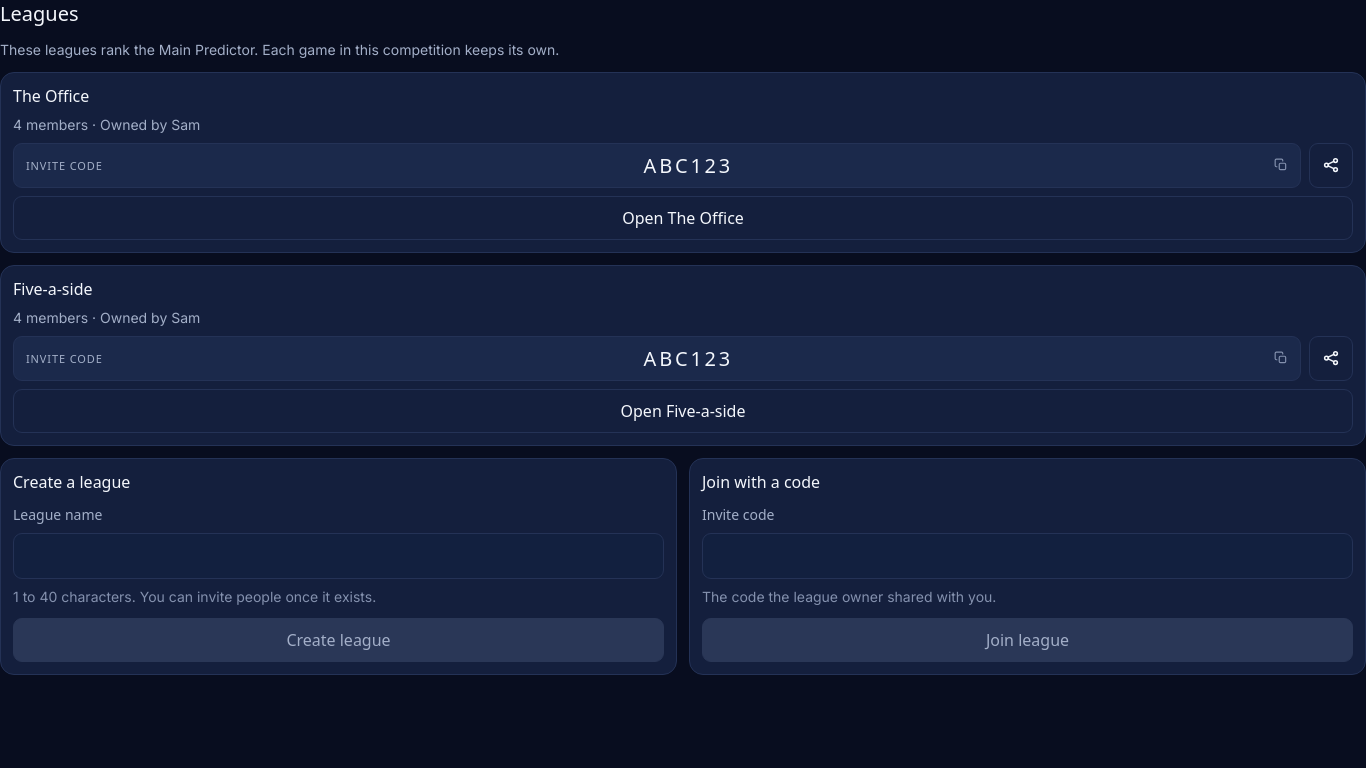
Test case: the competition leagues surface › keeps one table open at a time
This screenshot has width=1366, height=768.
Expected: the heading "The Office" is shown, [13,85,89,107]
Click the button "Open The Office" at x=683, y=218, box [13,196,1353,240]
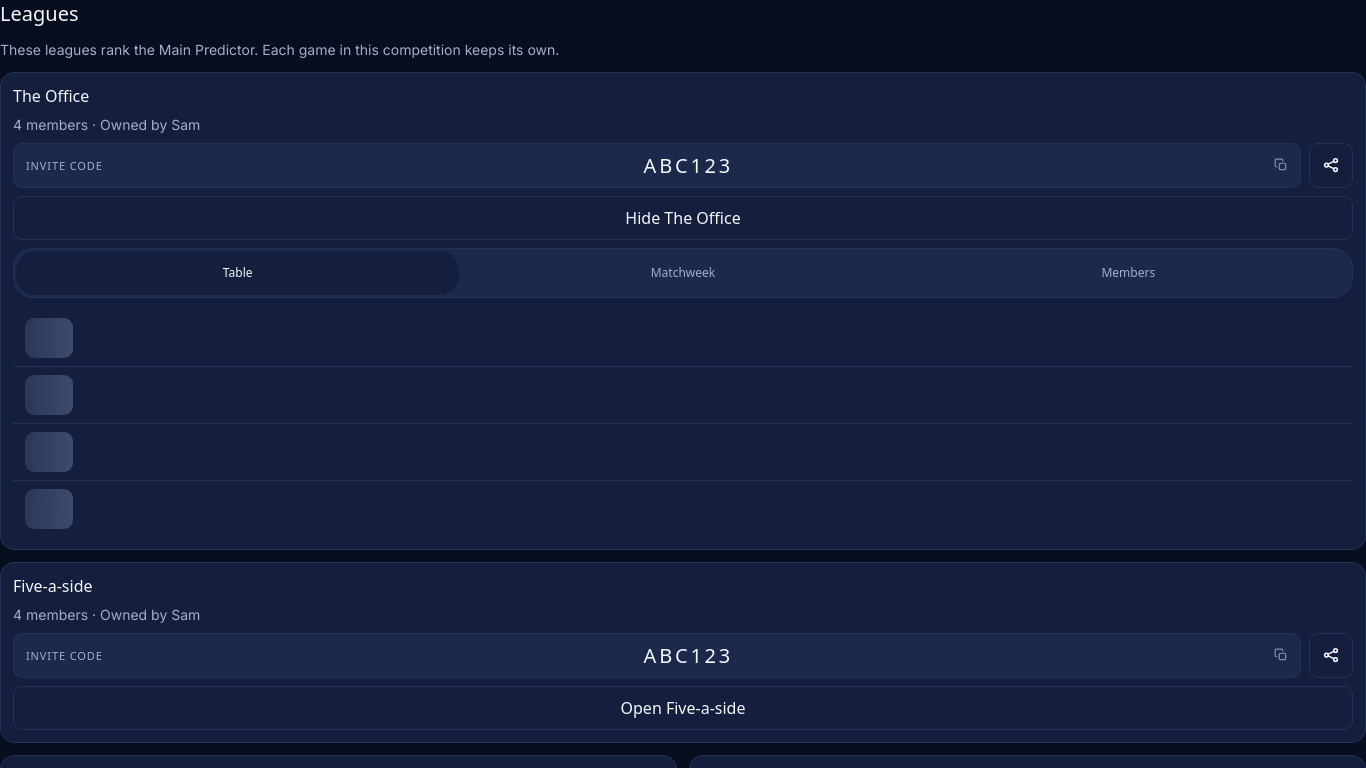
Expected: the button "Hide The Office" is shown, [13,196,1353,240]
Click the button "Open Five-a-side" at x=683, y=708, box [13,686,1353,730]
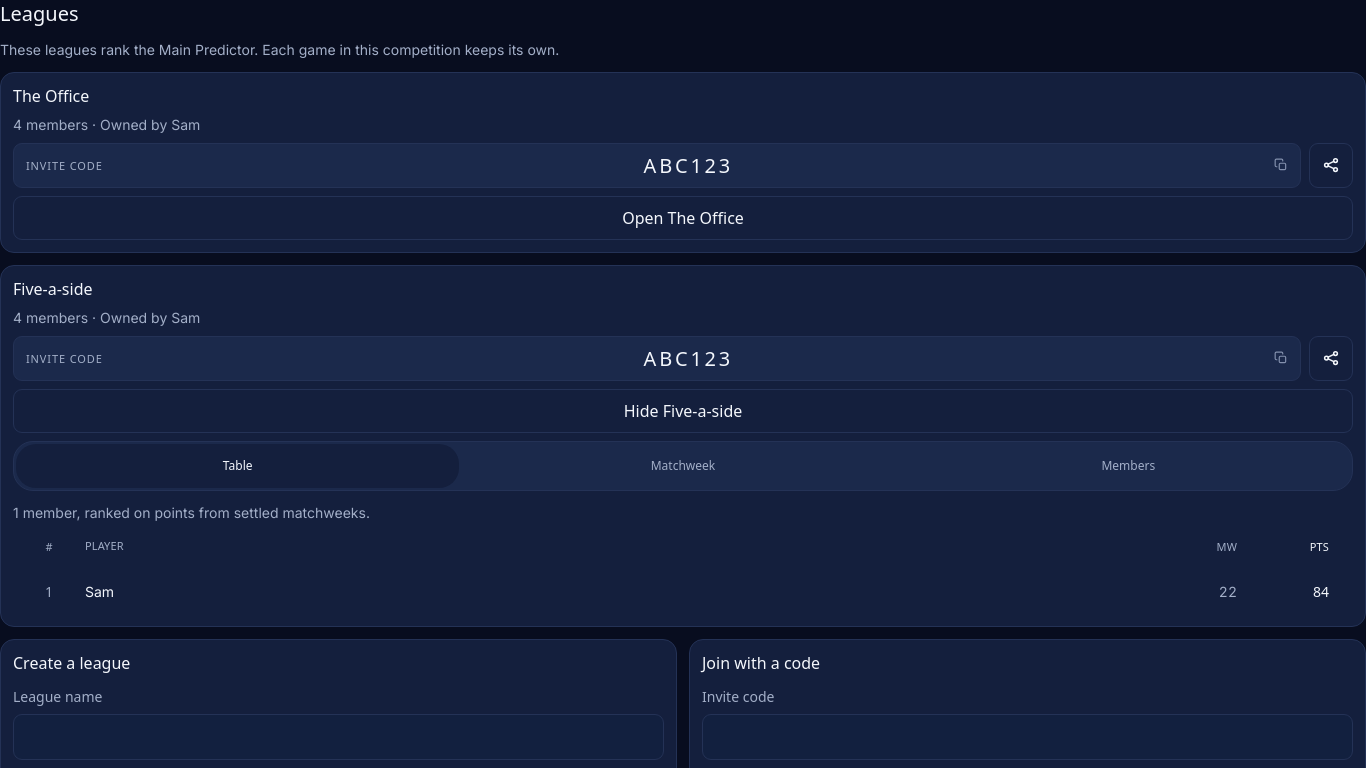
Expected: the button "Hide Five-a-side" is shown, [13,389,1353,433]
Expected: the button "Open The Office" is shown, [13,196,1353,240]
